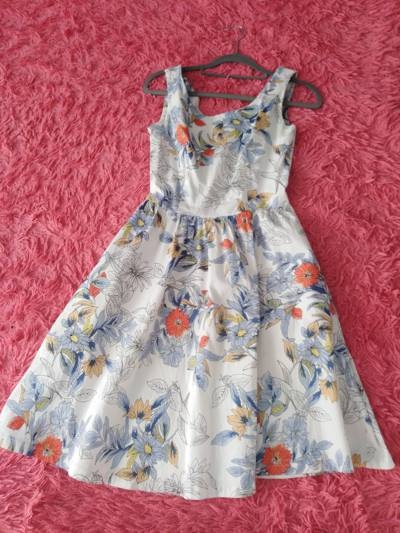Dress: (4, 41, 399, 498)
